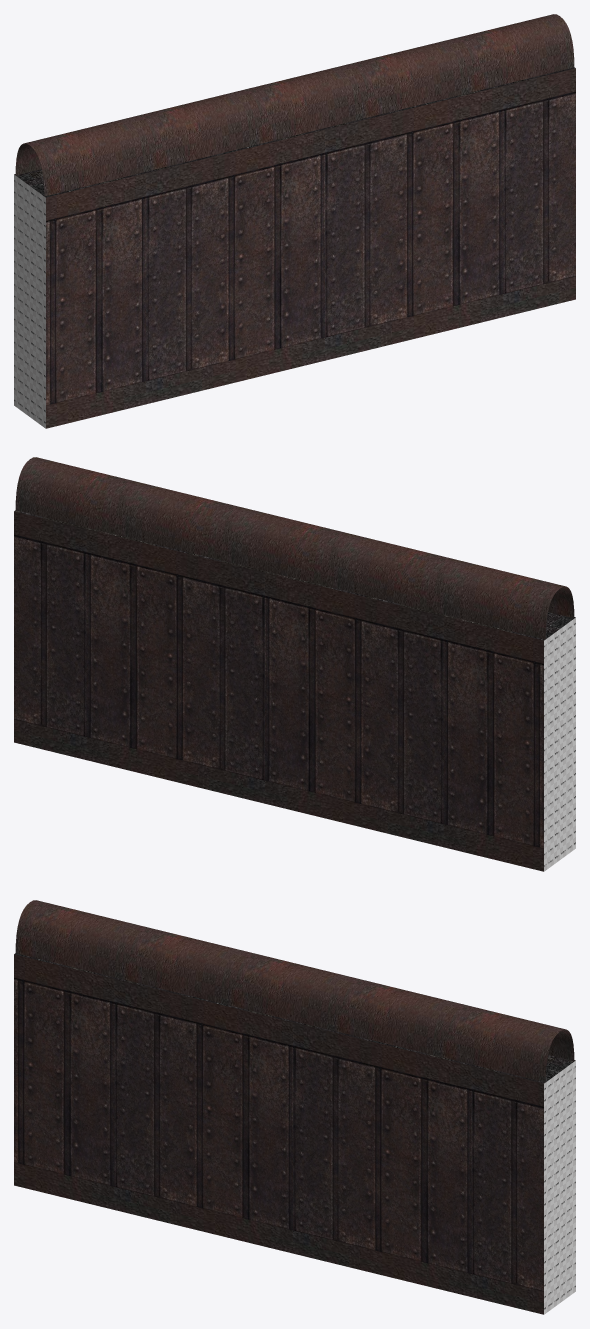
The model's file is 14gate-wall.obj.
The picture shows the model from 3 angles, top to bottom: view 1: azimuth 30°, elevation 25°; view 2: azimuth 150°, elevation 25°; view 3: azimuth 330°, elevation 25°; orthographic projection.
Parts seen in each view (by area): view 1: entity0_brush2, entity0_patch0, entity0_brush1, entity0_brush3; view 2: entity0_brush2, entity0_patch0, entity0_brush1, entity0_brush3; view 3: entity0_brush2, entity0_patch0, entity0_brush1, entity0_brush3.
Part boxes in pixels (box(x1,y1,x2,y2)): entity0_brush2: box(14, 91, 575, 405); entity0_patch0: box(15, 14, 574, 196); entity0_brush1: box(14, 67, 575, 220); entity0_brush3: box(14, 276, 575, 428); entity0_brush2: box(14, 534, 575, 848); entity0_patch0: box(15, 457, 574, 639); entity0_brush1: box(14, 510, 575, 663); entity0_brush3: box(14, 719, 575, 871); entity0_brush2: box(14, 977, 575, 1291); entity0_patch0: box(15, 900, 574, 1082); entity0_brush1: box(14, 953, 575, 1106); entity0_brush3: box(14, 1162, 575, 1314).
Size of the model in its own units: 384 by 188 by 40.
